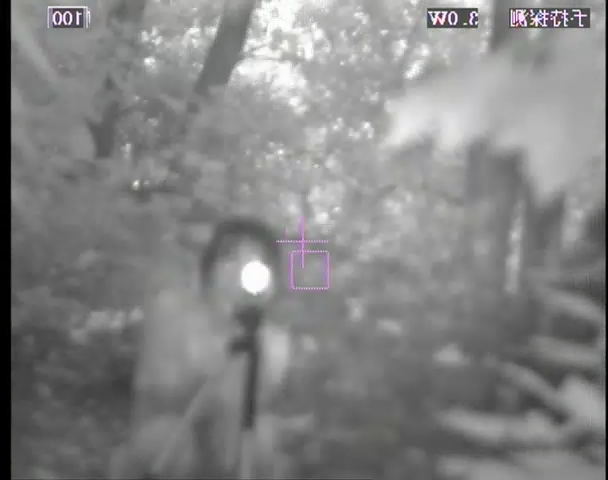my: (240, 261, 272, 293)
